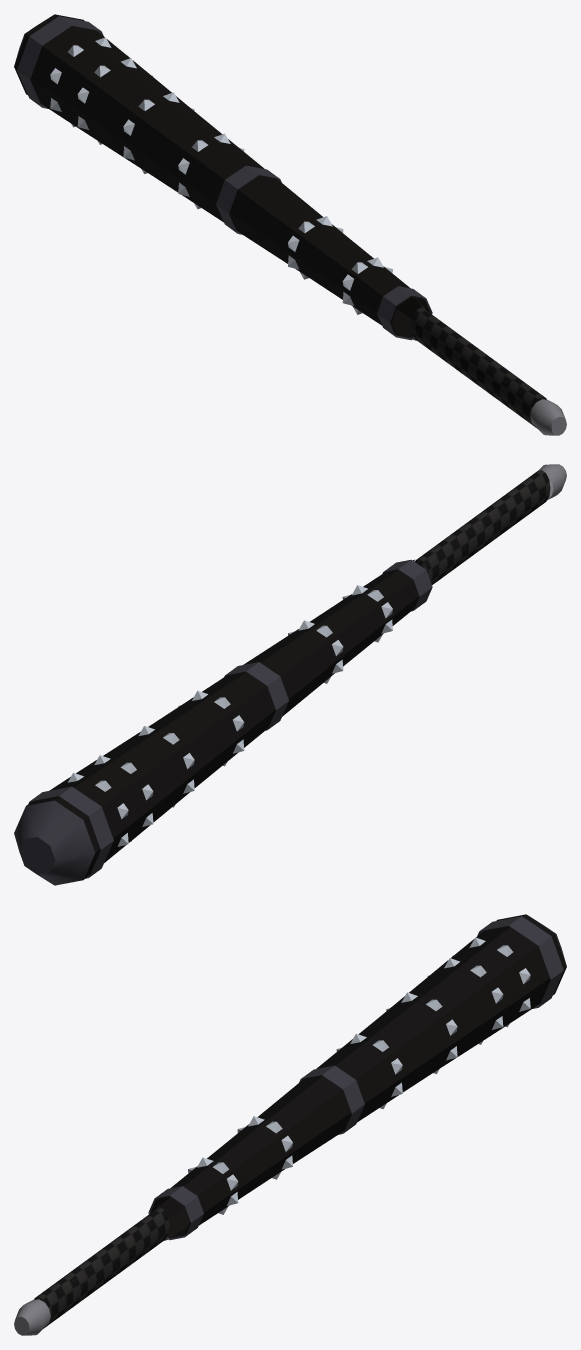
The model's file is kanabo.glb.
The picture shows the model from 3 angles, top to bottom: view 1: azimuth 30°, elevation 25°; view 2: azimuth 150°, elevation 25°; view 3: azimuth 330°, elevation 25°; orthographic projection.
Parts seen in each view (by area): view 1: main; view 2: main; view 3: main.
Part boxes in pixels (x1,y1,x2,y2): main: (14,14,566,435); main: (14,464,566,885); main: (14,914,566,1335).
Bounding box in the file's own units: 0.1113 × 0.1113 × 1.2.
5 materials, 4 textured.
